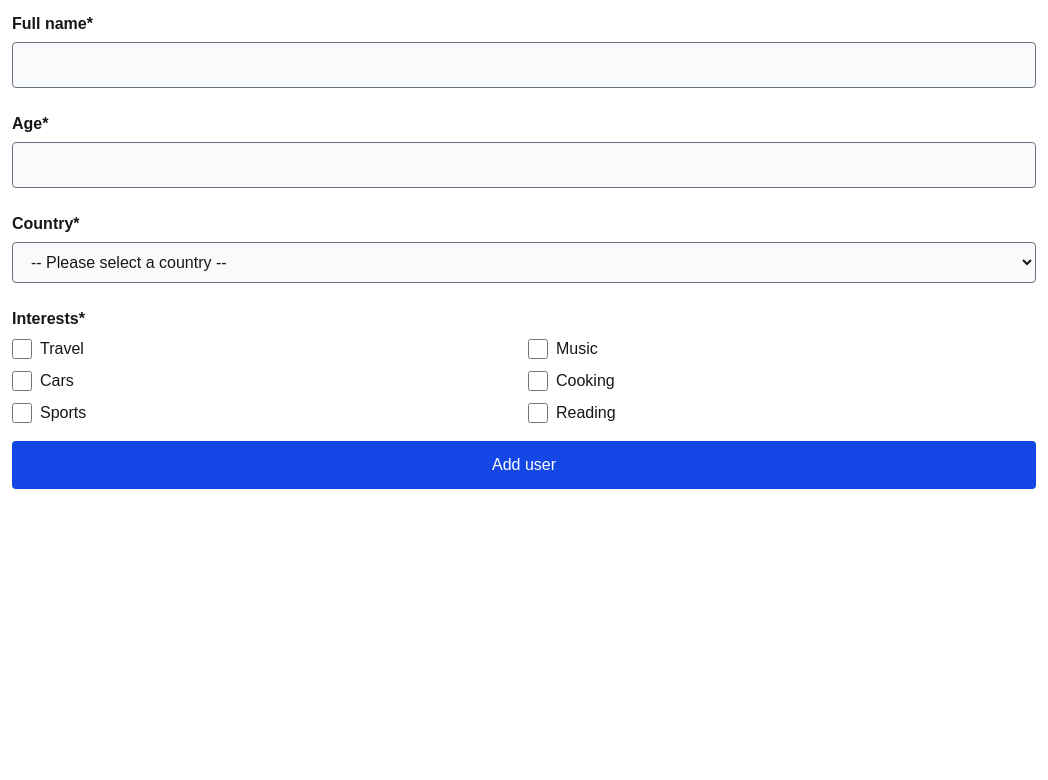
AddUserForm Component › shows validation error when fullName is empty
Click the button "Add user" at {"x": 524, "y": 465}, box [12,441,1036,489]
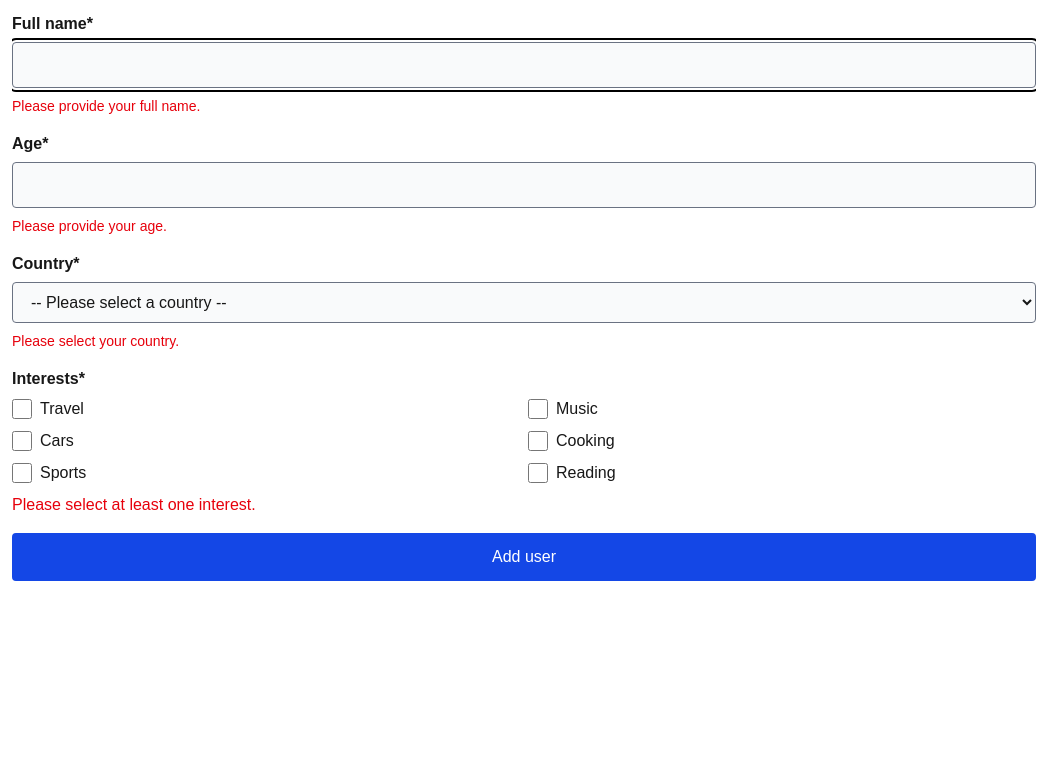
Result: the text "Please provide your full name." is shown at [12,98,200,114]
